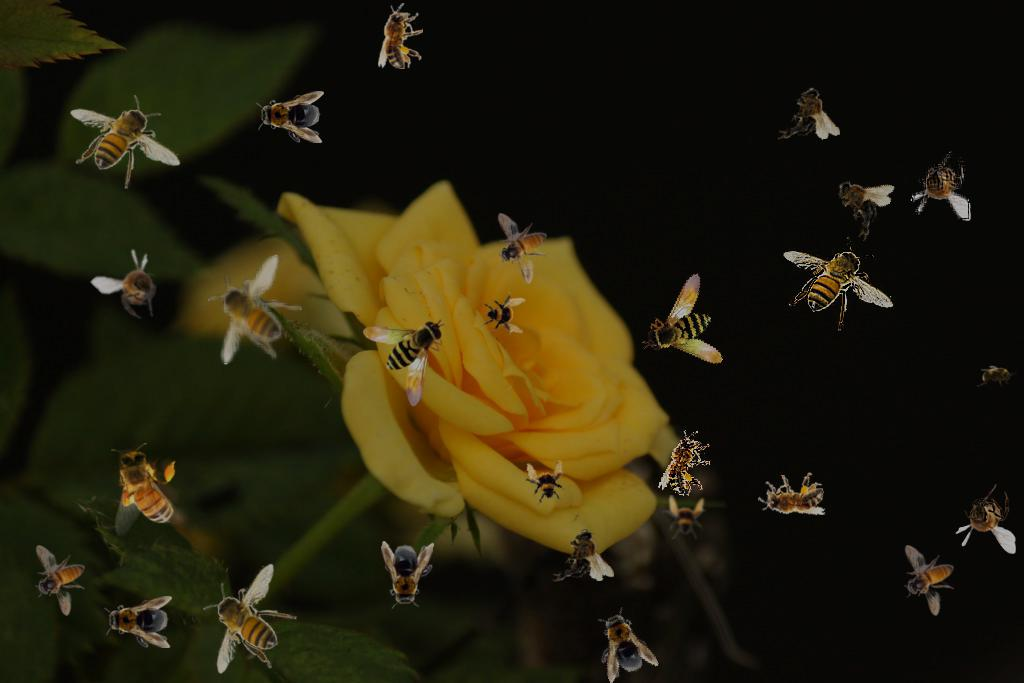Bee: (640, 263, 746, 373), (70, 95, 181, 189), (203, 563, 297, 674), (783, 237, 894, 331), (208, 254, 302, 365), (89, 238, 182, 332), (363, 319, 445, 407), (111, 443, 179, 536), (821, 163, 898, 243), (584, 602, 660, 683), (657, 425, 717, 500), (955, 484, 1016, 554), (910, 151, 971, 221), (548, 526, 615, 586), (755, 469, 827, 524), (774, 85, 841, 143), (380, 540, 434, 610), (497, 213, 547, 284), (35, 545, 85, 616), (904, 545, 954, 616), (256, 91, 324, 143), (104, 596, 172, 648), (378, 3, 423, 69), (519, 456, 571, 508), (482, 291, 526, 335), (662, 495, 706, 539), (977, 365, 1017, 387)
